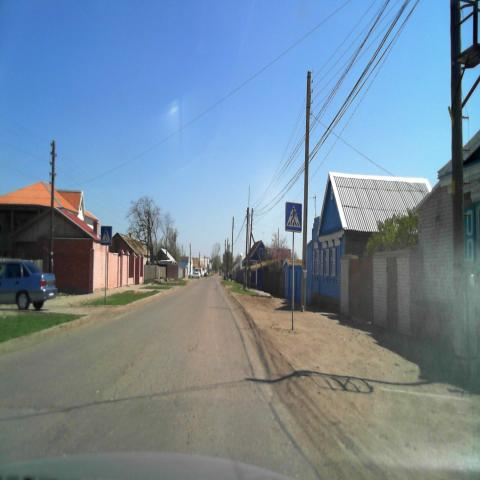5_19_1: (100, 226, 112, 246)
